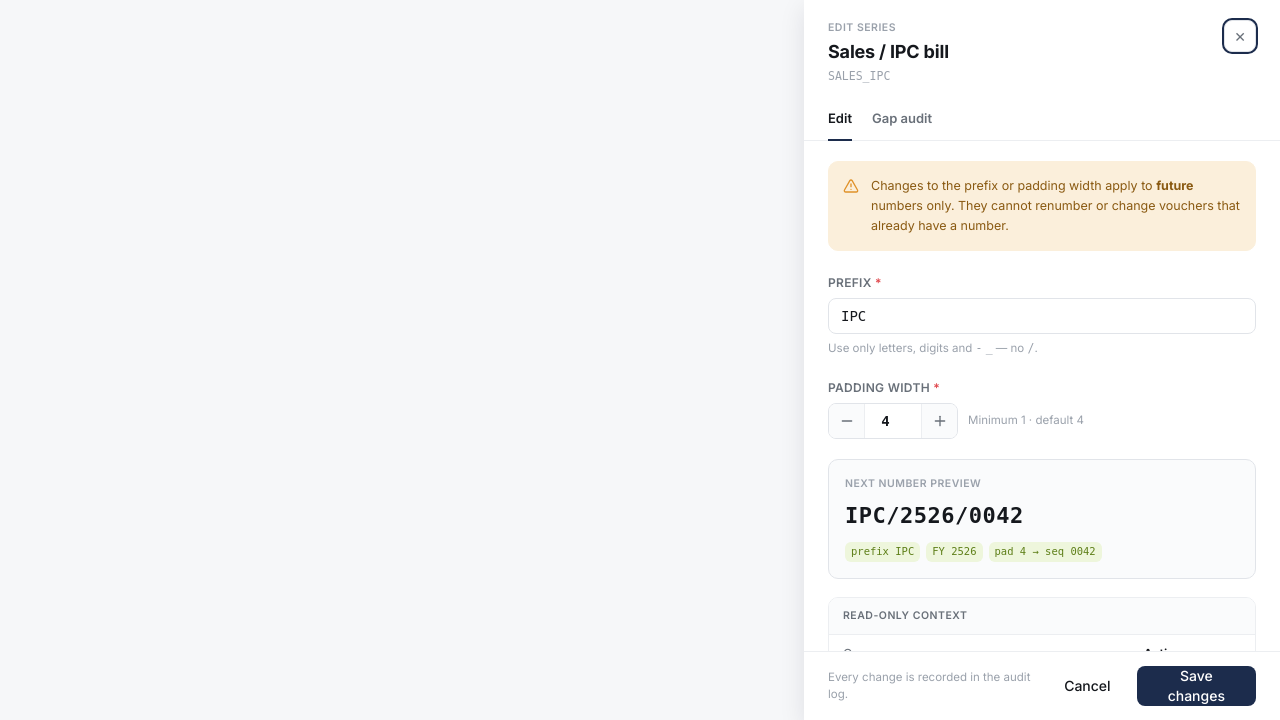
SeriesEditorDrawer — edit (FR-NUM-002/013/018/020) › Cancel with unsaved edits opens the discard confirm; Keep editing dismisses
Type "Z" into the field labelled "Prefix *" at (1042, 316), box [828,298,1256,334]
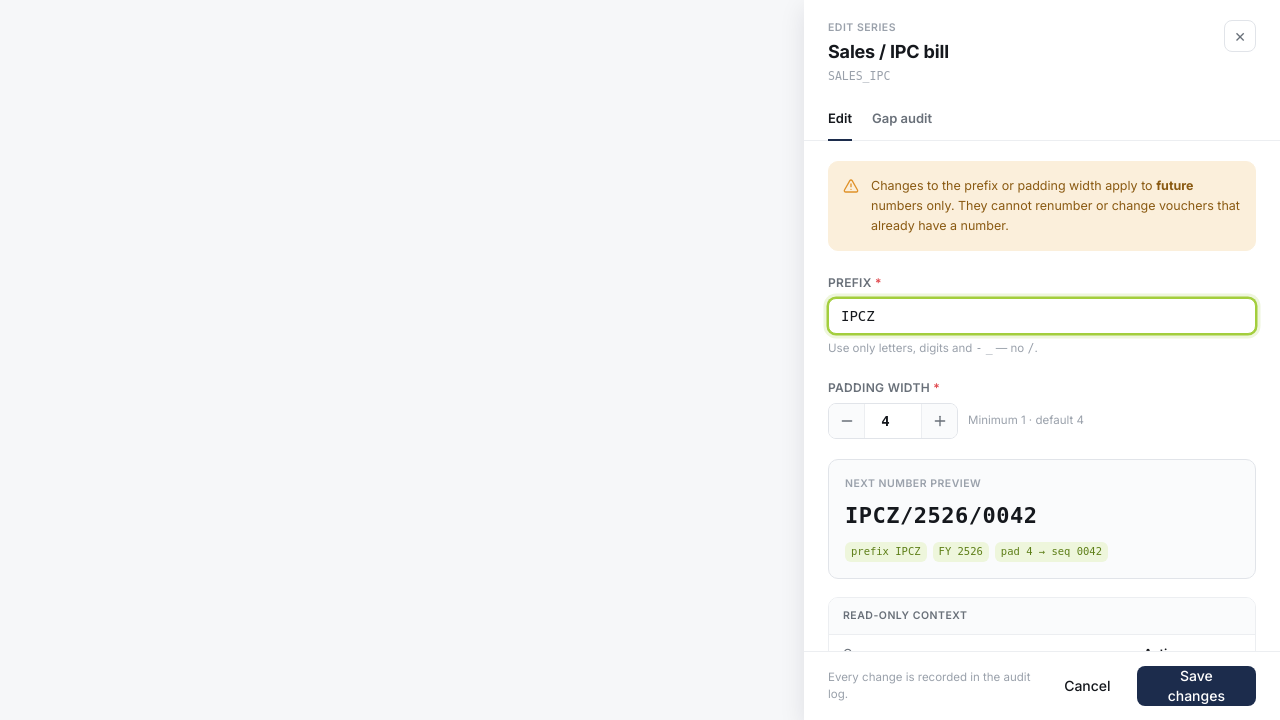
Click the button "Cancel" at (1087, 686), box [1048,666,1127,706]
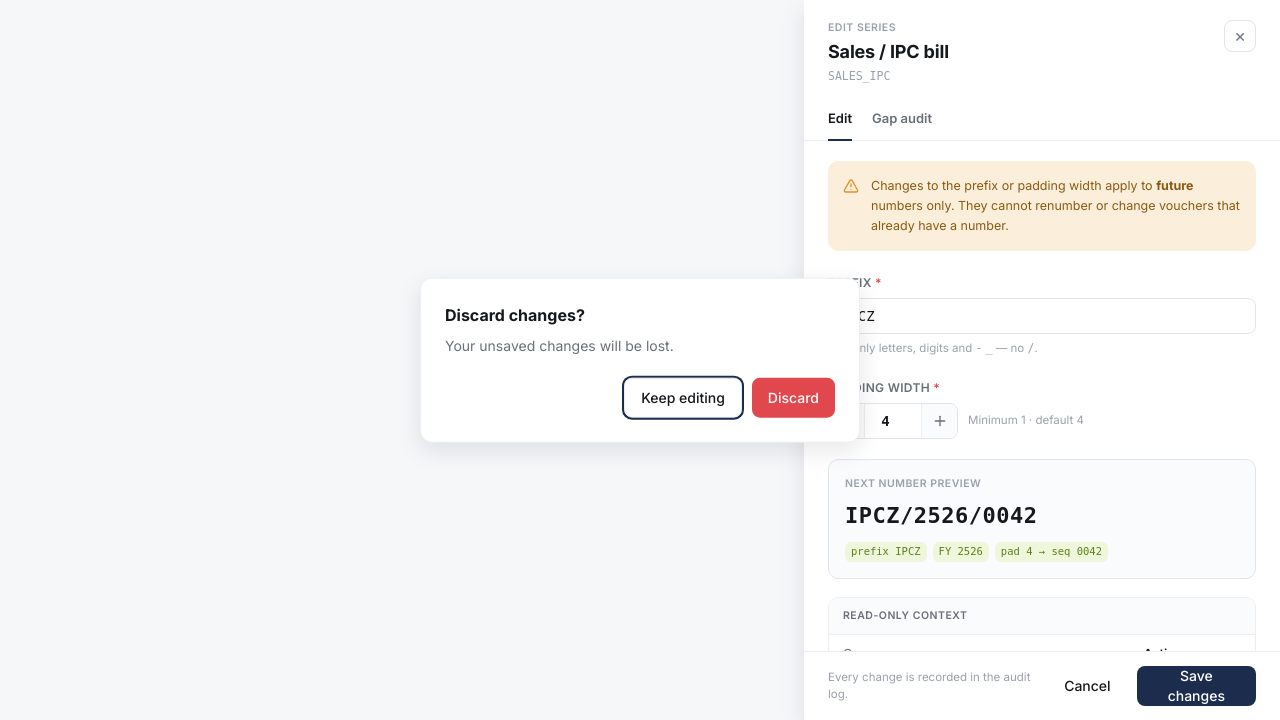
Expected: the dialog with test id "discard-changes-dialog" is shown, [420,278,860,442]
Click the button with test id "keep-editing" at (683, 397), box [624,377,742,417]
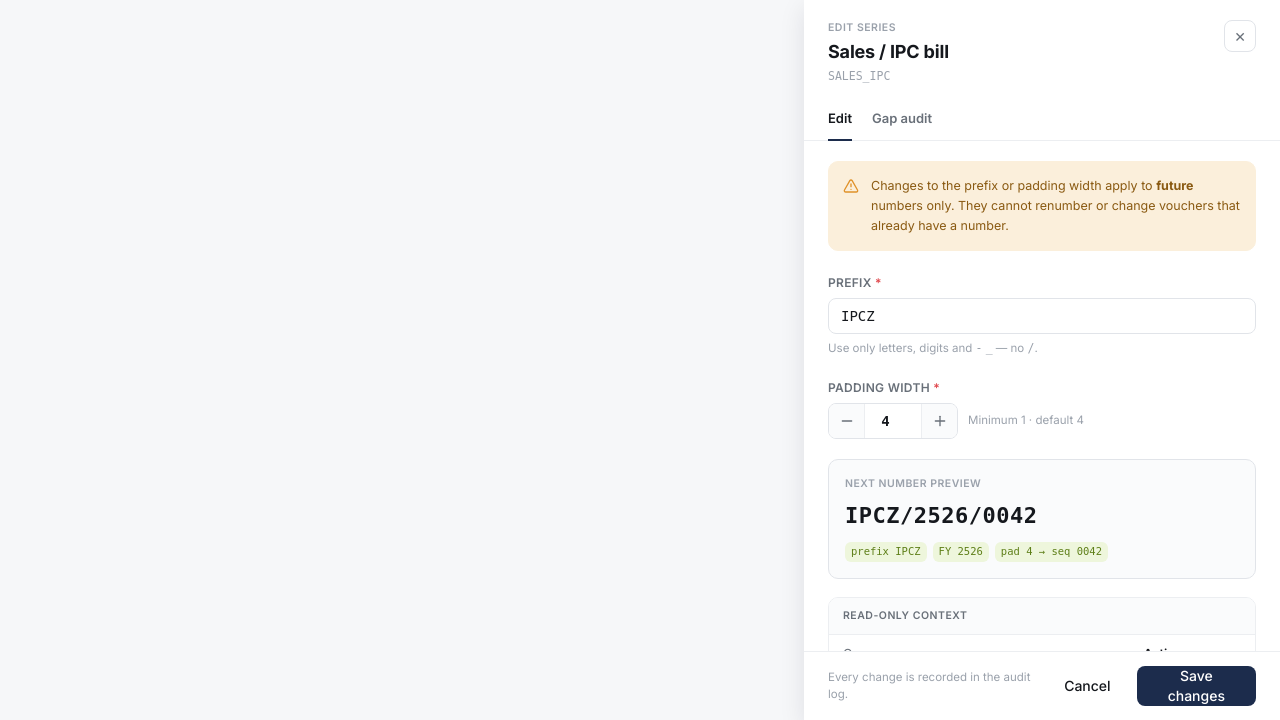
Expected: the dialog with test id "discard-changes-dialog" is gone
